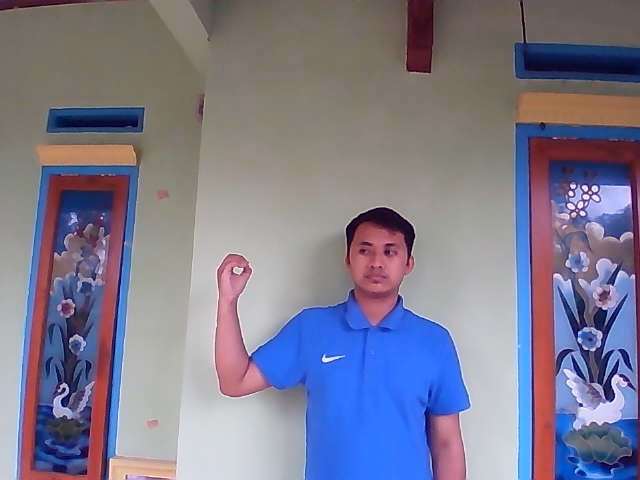O: (215, 253, 253, 297)
